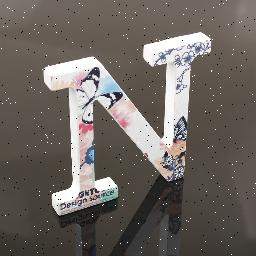n: (35, 26, 211, 224)
